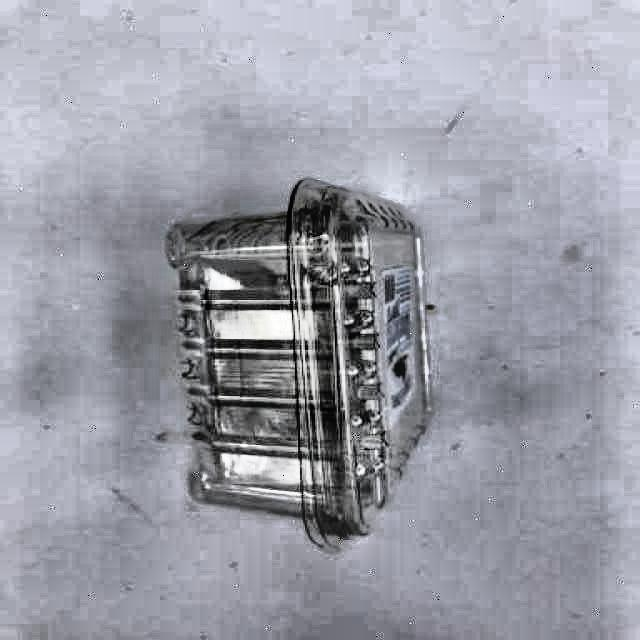plastic: (166, 179, 429, 549)
